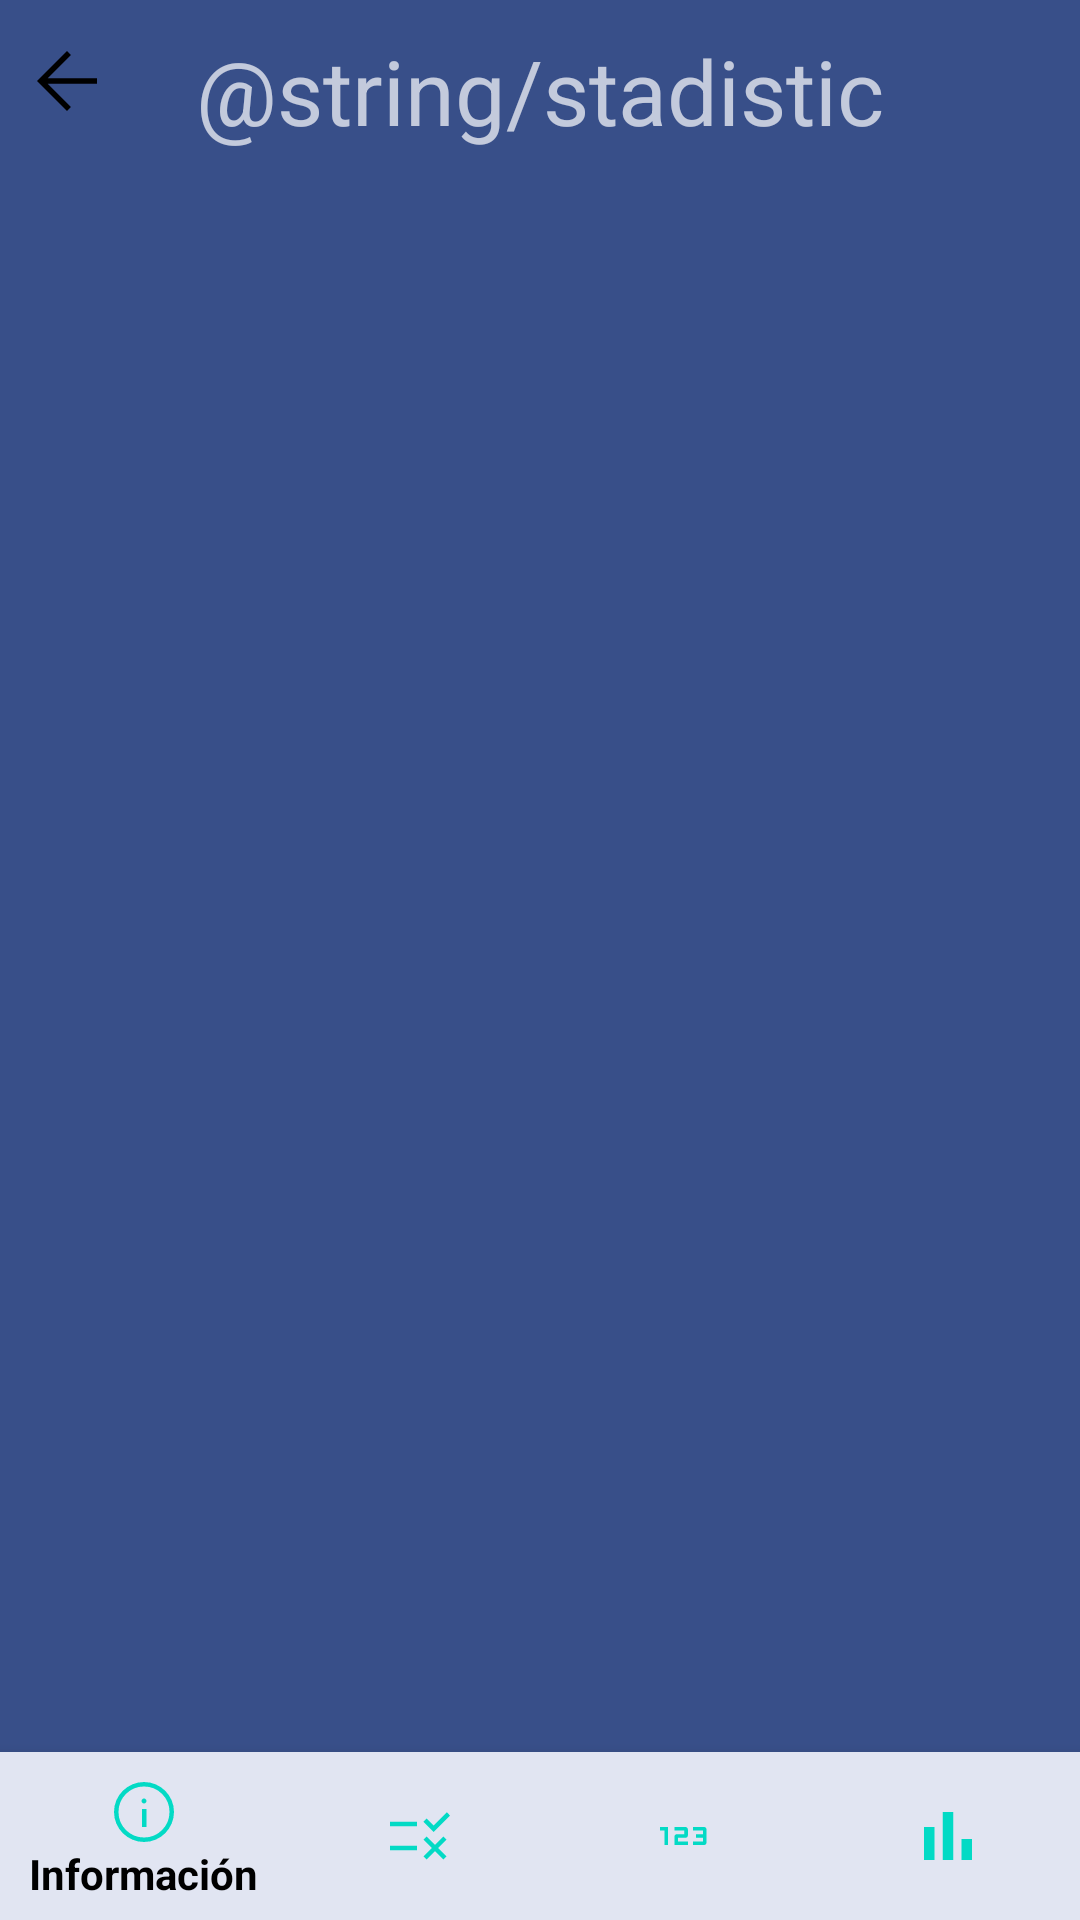

Screen size 1080 x 1920. Icon name, then its box in pixels as (x1, y1, x2, y2):
arrow back android: (37, 51, 97, 111)
